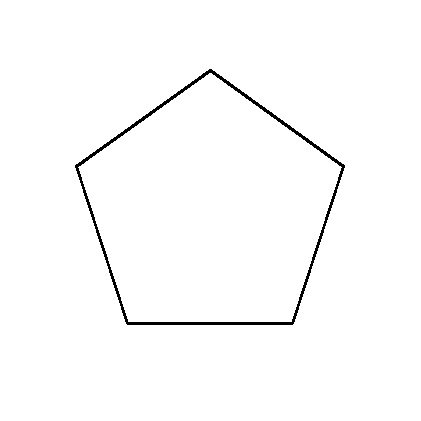line_segment: (75, 68, 345, 326)
